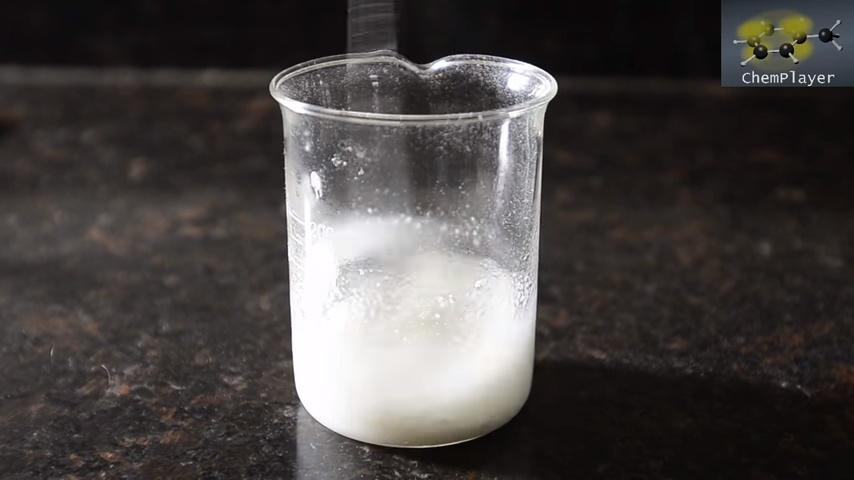Beaker: (263, 31, 566, 440)
